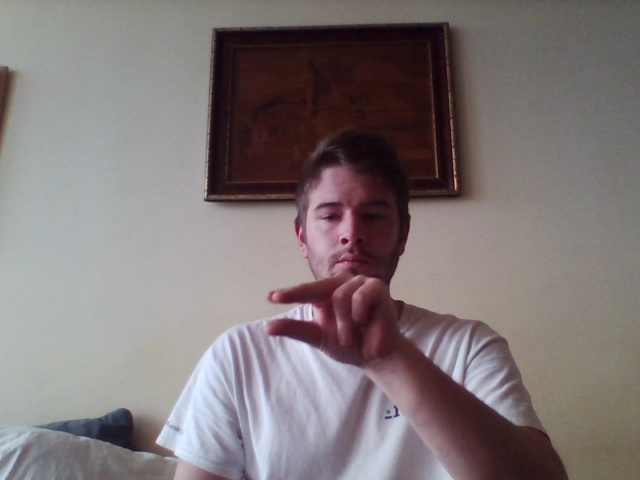ne: (266, 272, 394, 369)
